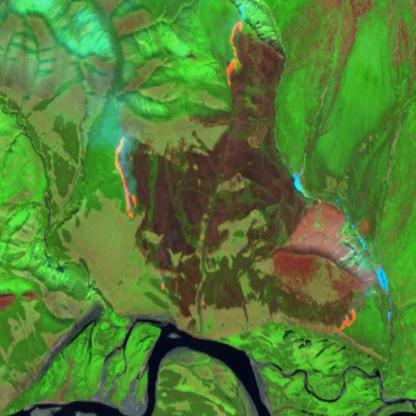fire: (106, 124, 142, 228), (209, 13, 248, 97), (333, 299, 362, 340)
